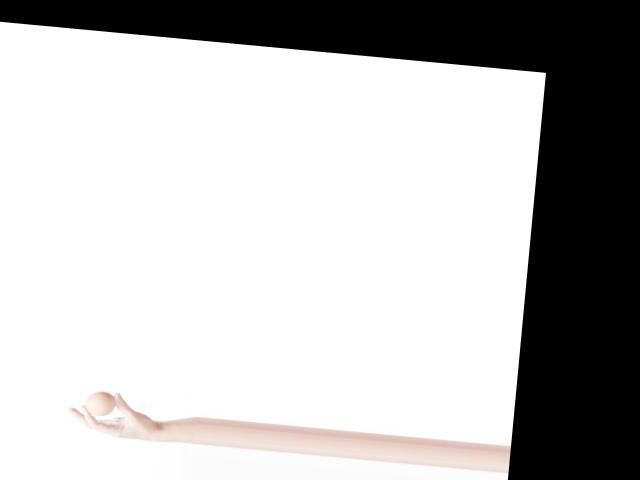egg: (84, 389, 117, 416)
